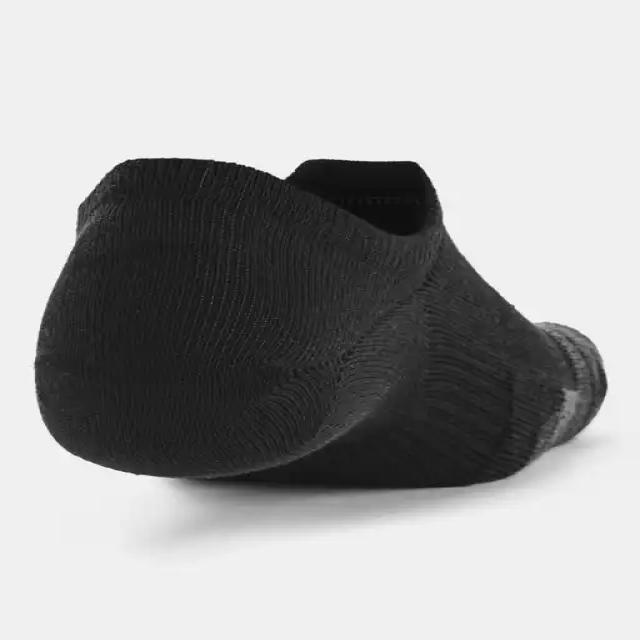sock: (32, 155, 608, 488)
